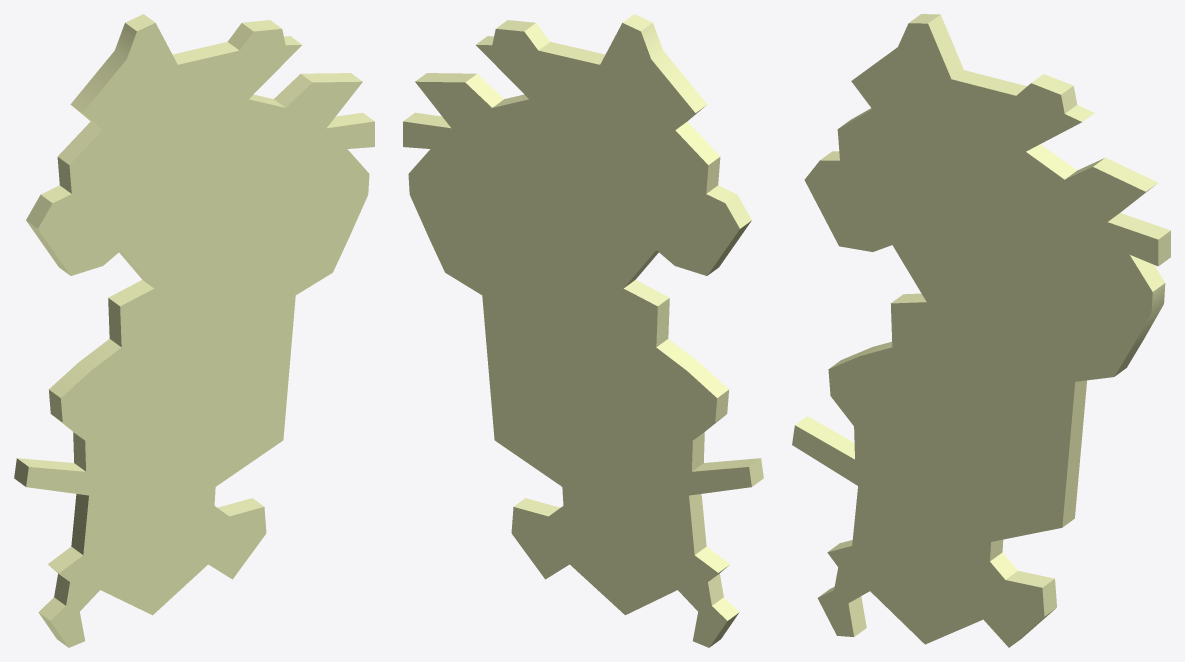
File: Cuencame.fbx
The picture shows the model from 3 angles, left to right: view 1: azimuth 30°, elevation 25°; view 2: azimuth 150°, elevation 25°; view 3: azimuth 330°, elevation 25°; orthographic projection. The views are drawn at different scales.
Visible parts, largest first — view 1: cuencame; view 2: cuencame; view 3: cuencame.
Part boxes in pixels (x1,y1,x2,y2): cuencame: (14,14,374,647); cuencame: (403,14,763,647); cuencame: (792,14,1170,647).
Size of the model in its own units: 134 by 222 by 8.
